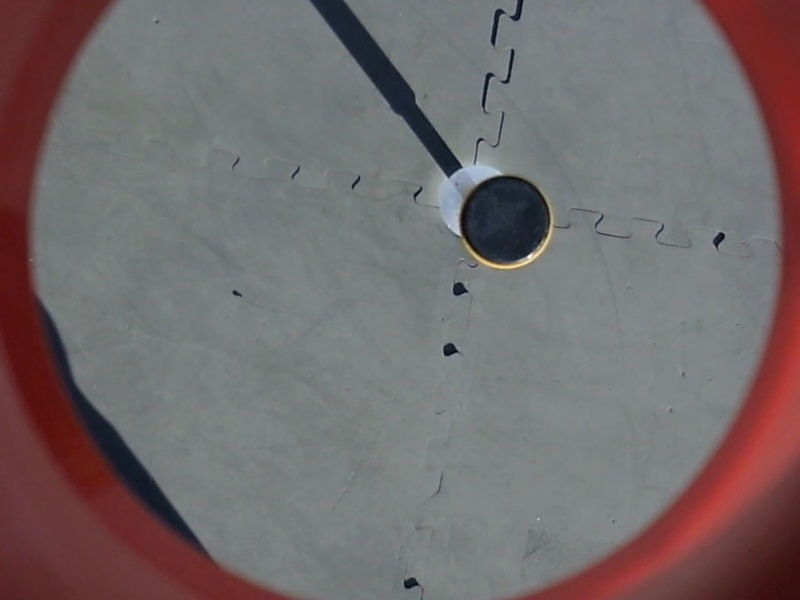tip: (457, 172, 558, 272)
